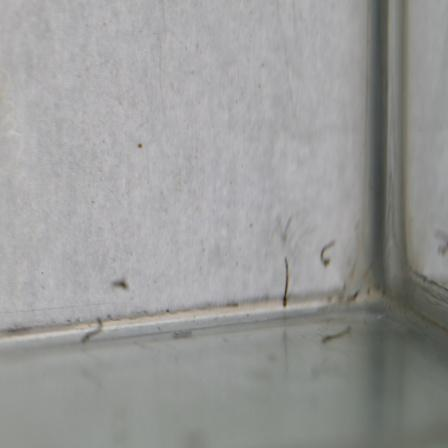Jentik-Nyamuk: (276, 253, 296, 311)
